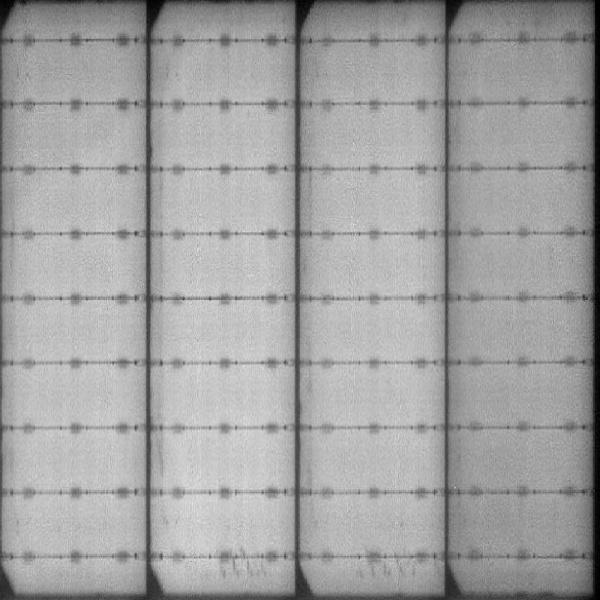scratch: (363, 559, 437, 580), (218, 559, 275, 584)
